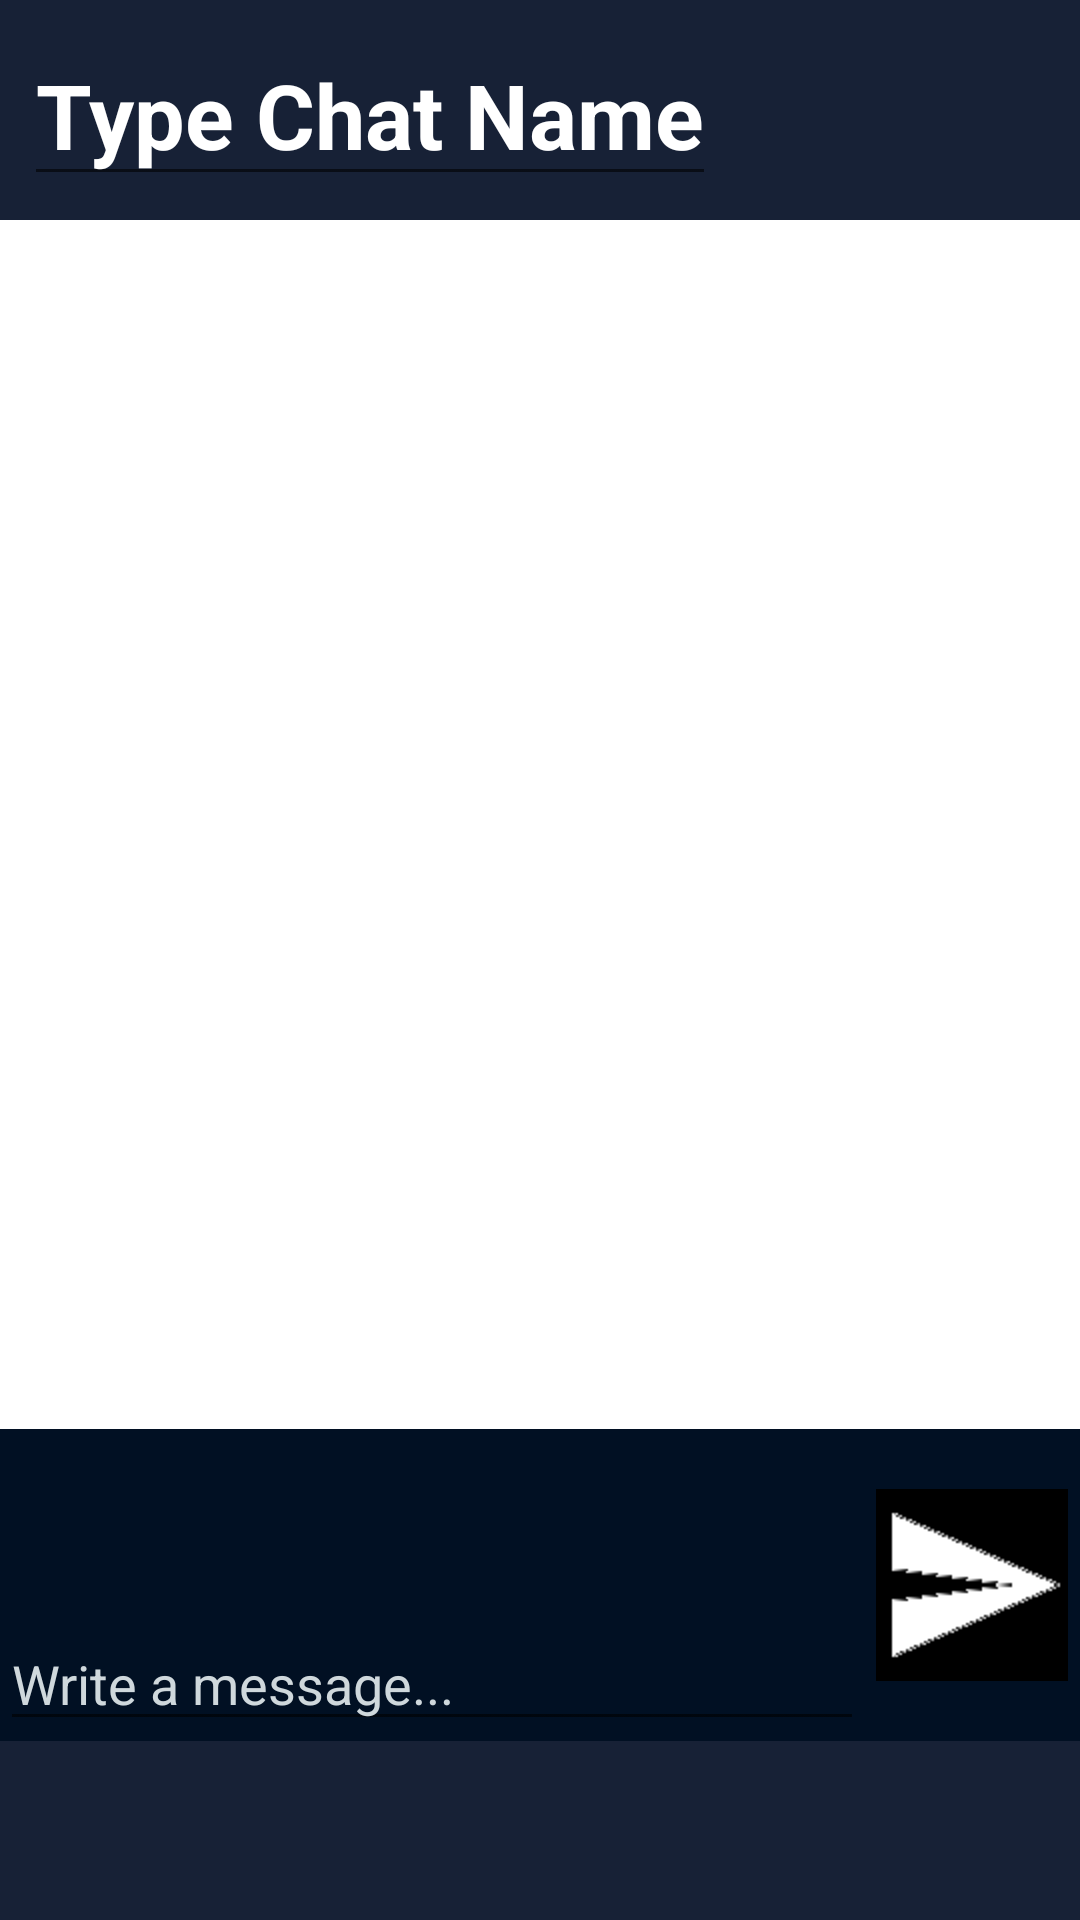

Screen size 1080px x 1920px. Icon name, then its center in pixels as point (x, y):
send: point (972, 1585)
